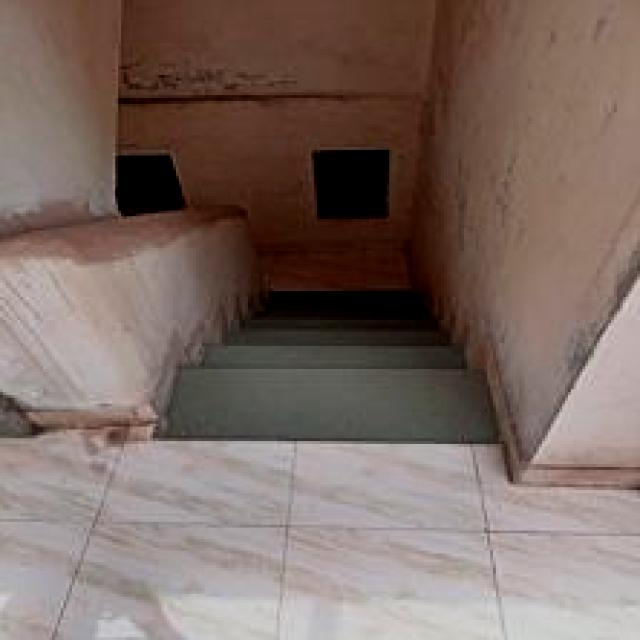downstair: (223, 255, 454, 410)
